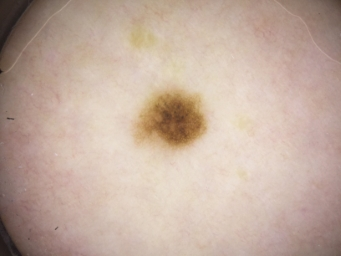melanoma: (136, 94, 208, 147)
